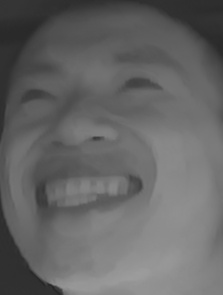eye: (113, 69, 174, 101), (13, 82, 66, 110)
mouth: (27, 160, 147, 221)
